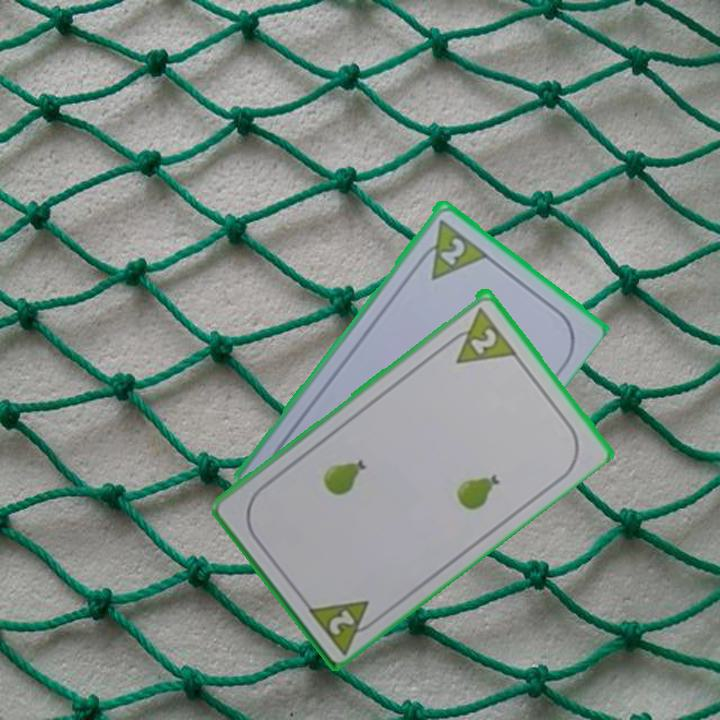2p: (466, 323, 500, 357), (436, 233, 468, 268), (325, 605, 358, 638)
